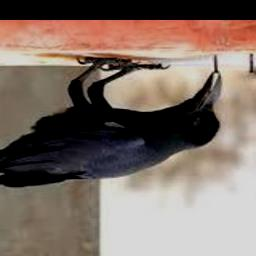Crow: (0, 56, 221, 195)
